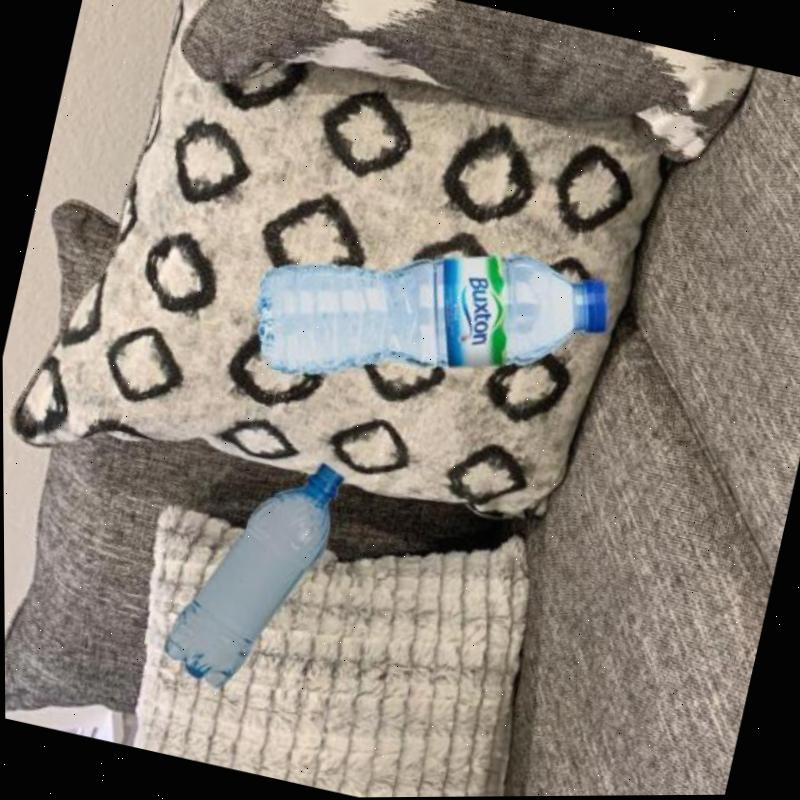botella: (238, 198, 620, 444), (153, 437, 346, 707)
